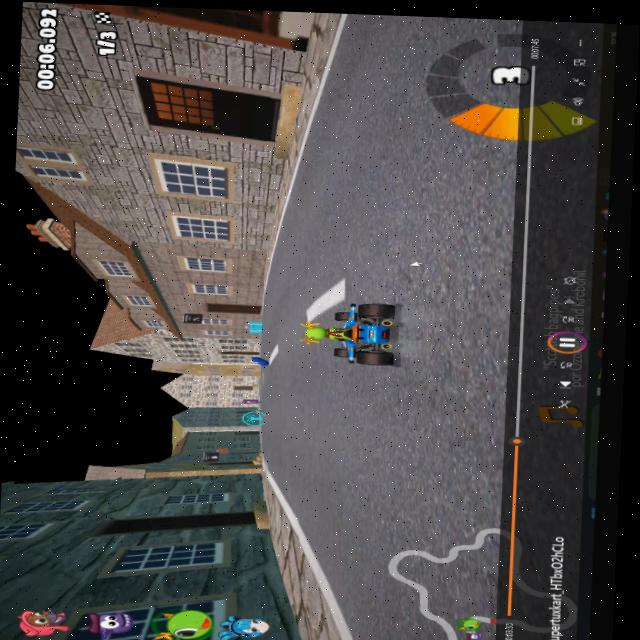bonus: (241, 409, 270, 426), (243, 318, 267, 334)
nitro: (249, 355, 272, 366)
player_kart: (296, 292, 406, 370)
